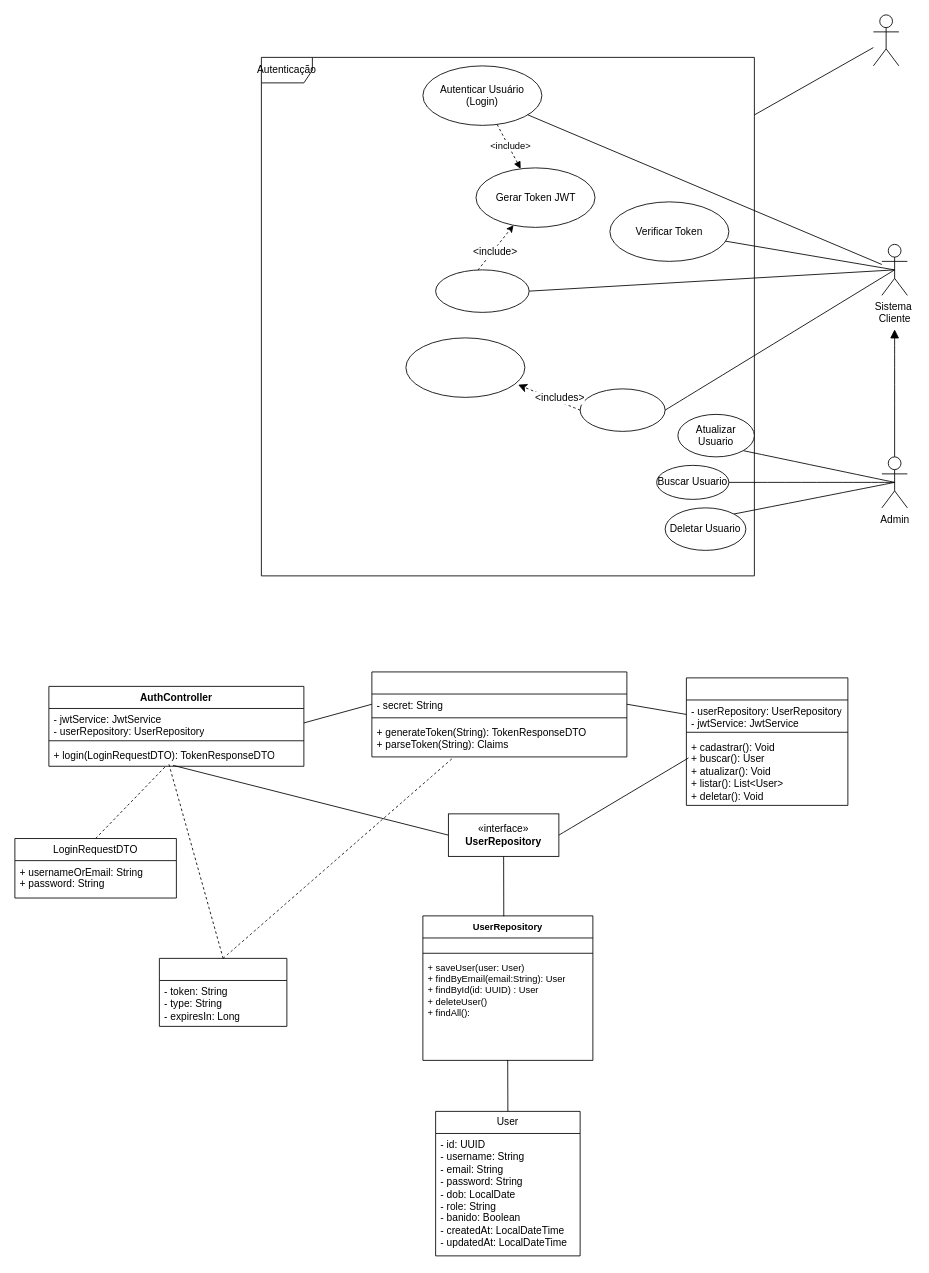
The diagram is 929 pixels wide and 1273 high, and some of its shapes have lost their labels. The box of each missing label's shape, as (x1, y1, x2, y2) in pixels:
BD: (873, 14, 899, 66)
Cadastrar Usuario: (579, 388, 665, 431)
Gerar Refresh Token: (435, 269, 529, 312)
JwtService: (371, 671, 627, 757)
Notificar cadastro de usuários: (405, 337, 525, 397)
TokenResponseDTO: (159, 958, 287, 1026)
UserController: (686, 677, 848, 805)
